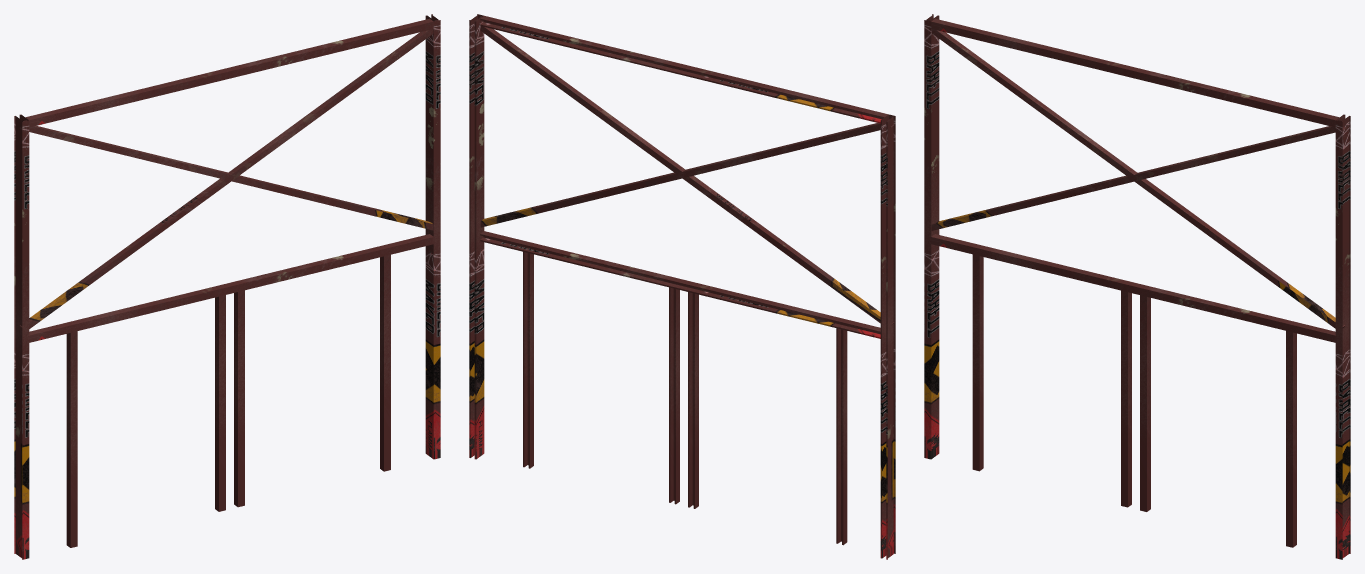
File: CS_formwork_system_large_02.FBX
3 renders of one model, left to right at view 1: azimuth 30°, elevation 25°; view 2: azimuth 150°, elevation 25°; view 3: azimuth 330°, elevation 25°, orthographic.
Visible parts, largest first — view 1: SM_formwork_system_large_02; view 2: SM_formwork_system_large_02; view 3: SM_formwork_system_large_02.
Part boxes in pixels (bbox=[...]): SM_formwork_system_large_02: bbox=[14, 14, 440, 559]; SM_formwork_system_large_02: bbox=[469, 14, 895, 559]; SM_formwork_system_large_02: bbox=[924, 14, 1350, 559].
Size of the model in its own units: 600 by 20 by 600.
